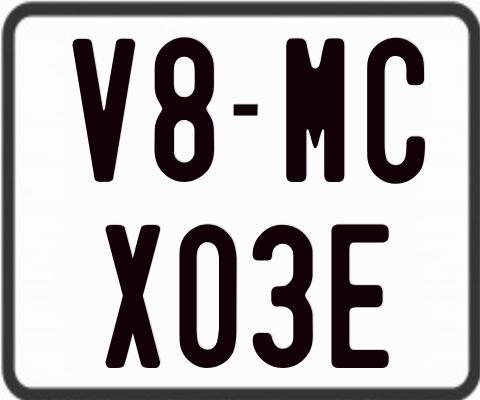0: (179, 223, 243, 373)
3: (252, 225, 314, 374)
8: (152, 34, 213, 181)
C: (367, 38, 430, 188)
E: (330, 223, 394, 371)
M: (283, 35, 343, 180)
V: (72, 38, 138, 187)
X: (106, 222, 160, 371)
